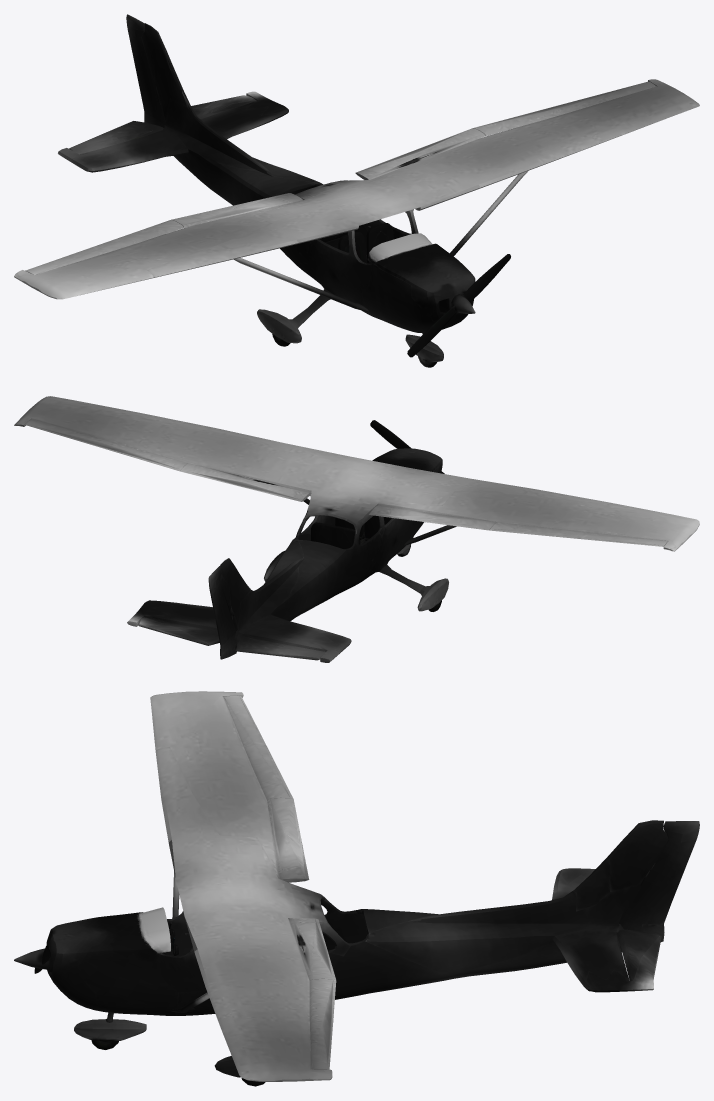
The picture shows the model from 3 angles, top to bottom: view 1: azimuth 30°, elevation 25°; view 2: azimuth 150°, elevation 25°; view 3: azimuth 270°, elevation 25°; orthographic projection. The views are drawn at different scales.
Parts seen in each view (by area): view 1: Object_10, Object_7; view 2: Object_10, Object_7; view 3: Object_10, Object_7.
Boxes of the visible parts, x1,y1,x2,y2 form: Object_10: (14,23,699,343); Object_7: (25,14,656,367); Object_10: (14,396,699,662); Object_7: (25,419,668,660); Object_10: (46,691,668,1081); Object_7: (14,695,699,1086).
Size of the model in its own units: 11 by 2.71 by 8.19.
2 materials, 2 textured.
